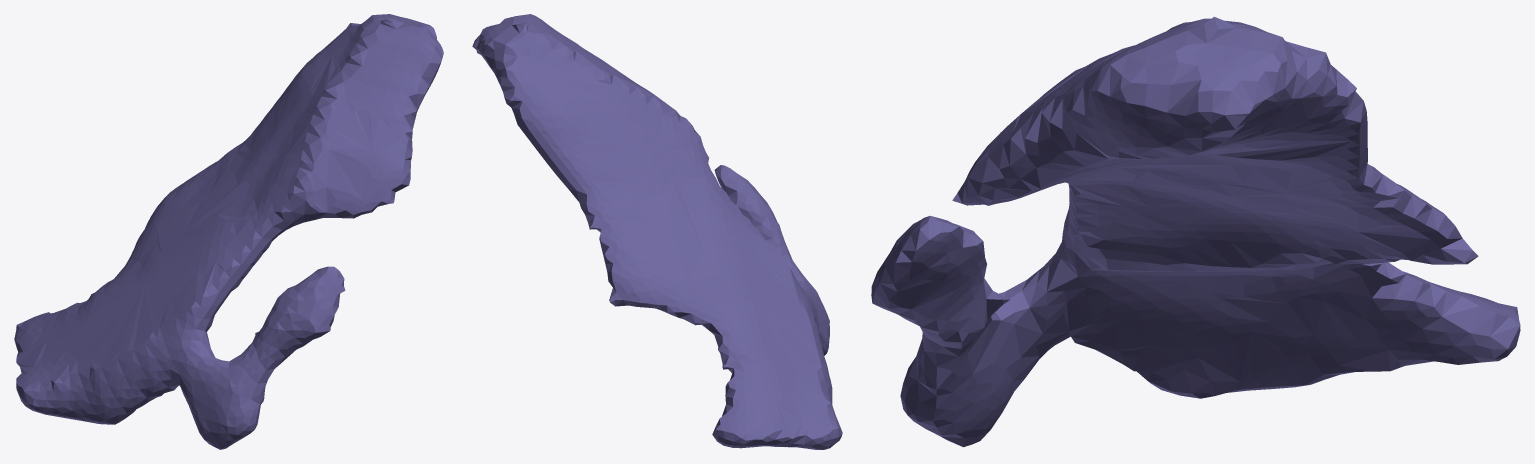
Rendered from Model_10320_LH__Reticular_nucleus_(Rt).obj.
3 renders of one model, left to right at view 1: azimuth 30°, elevation 25°; view 2: azimuth 150°, elevation 25°; view 3: azimuth 270°, elevation 25°, orthographic. The views are drawn at different scales.
Size of the model in its own units: 3.77 by 3.08 by 2.75.
